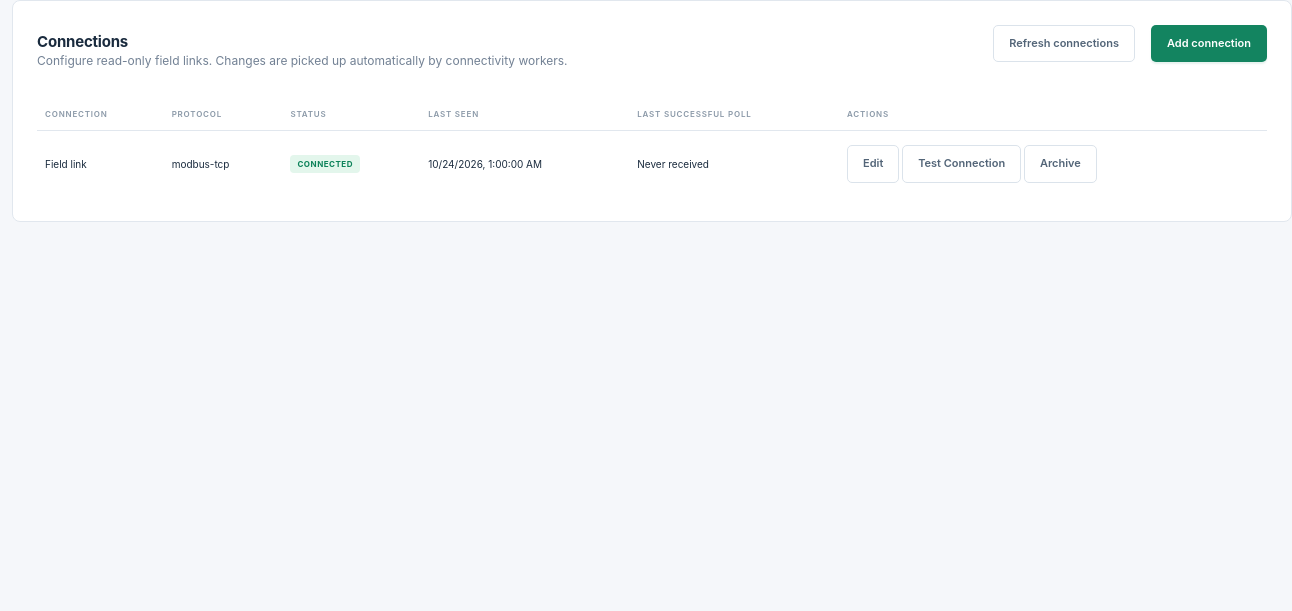
Test: lets administrators edit a connection while retaining write-only credentials
Click the button with aria-label "Edit Field link" at point(873, 164), box x1=847 y1=145 x2=899 y2=183
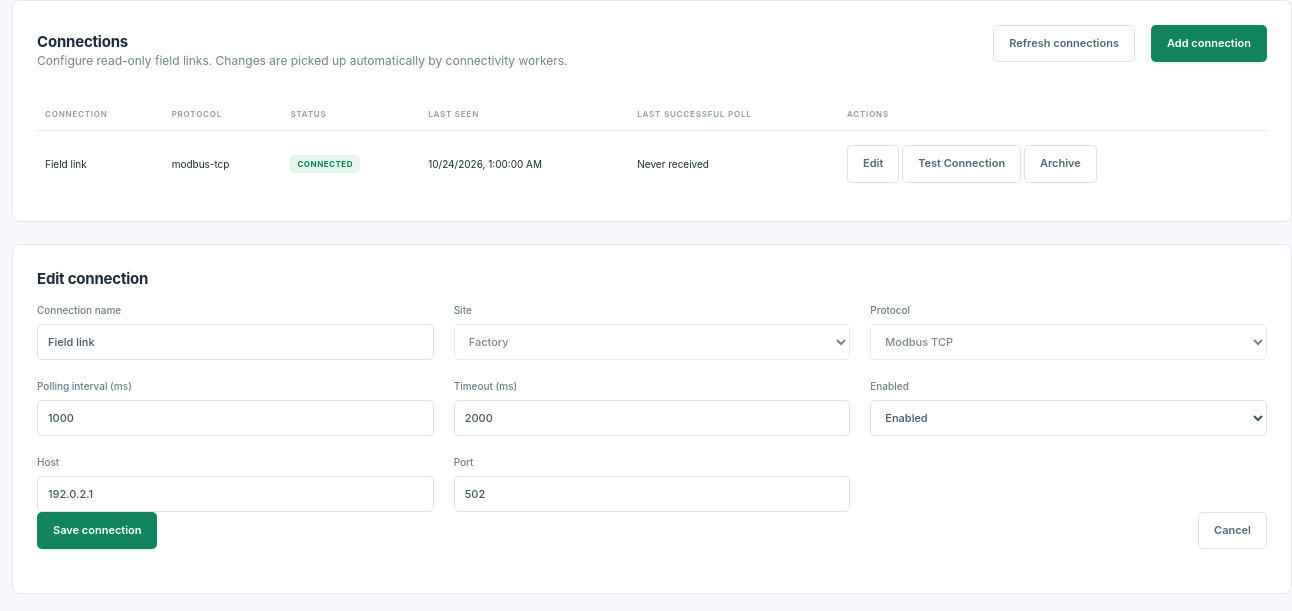
Replace the text in the field labelled "Host" with "192.0.2.2" at point(235, 494), box x1=37 y1=476 x2=434 y2=512
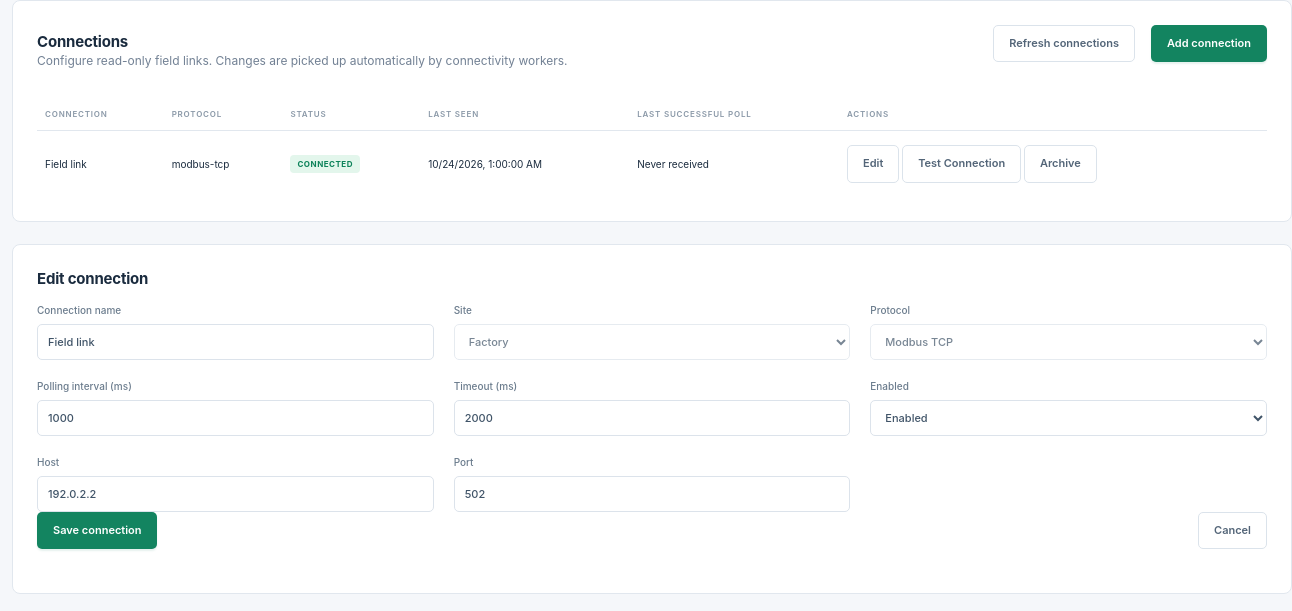
Click the button "Save connection" at point(97, 530), box x1=37 y1=512 x2=158 y2=549
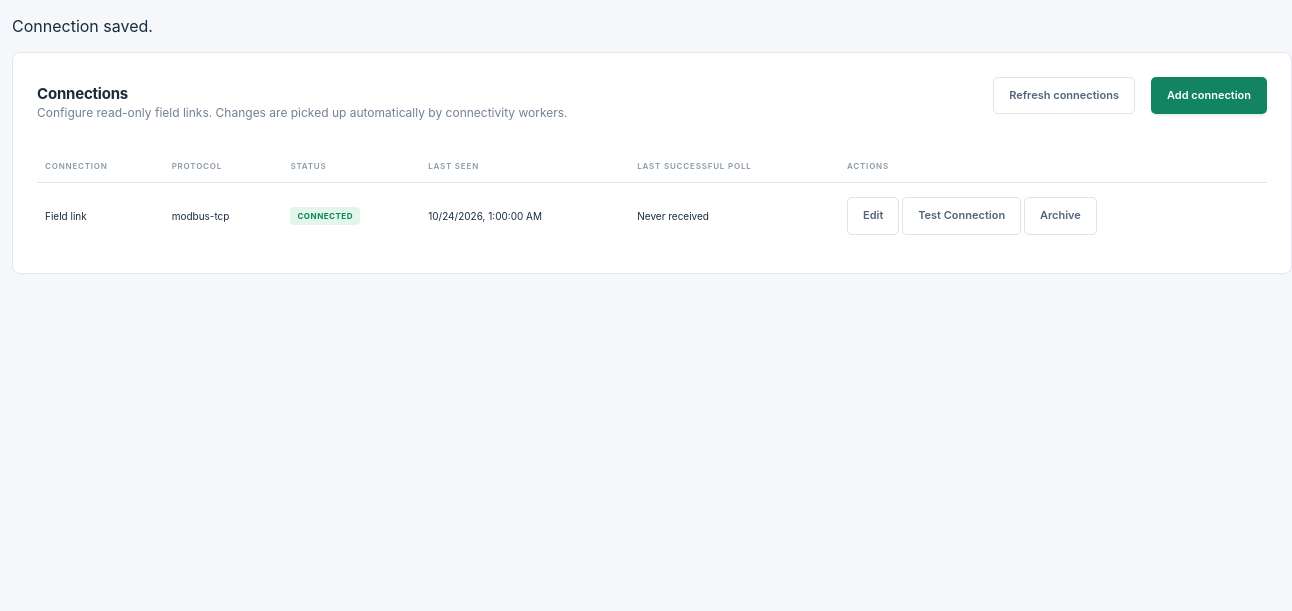
expect the text "Connection saved." is shown: met, box x1=12 y1=16 x2=153 y2=36
